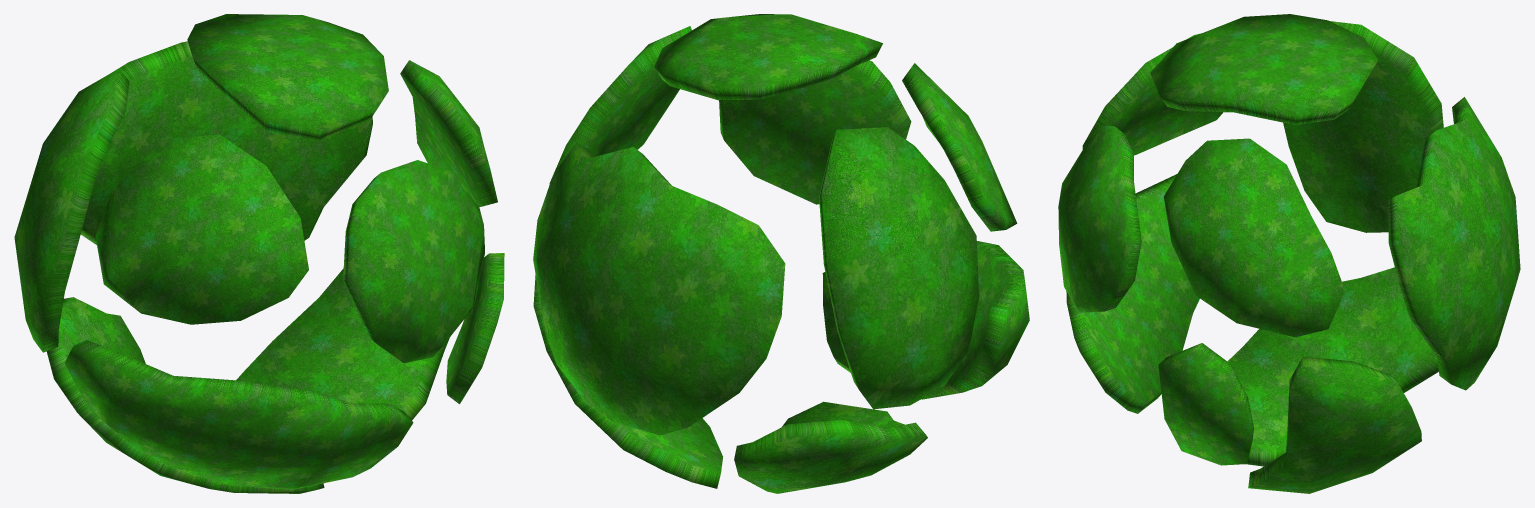
File: HikeGardenBoulderCutPlanet.obj
3 renders of one model, left to right at view 1: azimuth 30°, elevation 25°; view 2: azimuth 150°, elevation 25°; view 3: azimuth 270°, elevation 25°, orthographic. The views are drawn at different scales.
Parts seen in each view (by area): view 1: Sphere.000_Sphere.019; view 2: Sphere.000_Sphere.019; view 3: Sphere.000_Sphere.019.
Boxes of the visible parts, x1=… form: Sphere.000_Sphere.019: x1=14, y1=14, x2=504, y2=493; Sphere.000_Sphere.019: x1=533, y1=14, x2=1029, y2=493; Sphere.000_Sphere.019: x1=1058, y1=14, x2=1520, y2=493.
Size of the model in its own units: 2023 by 1966 by 1978.
